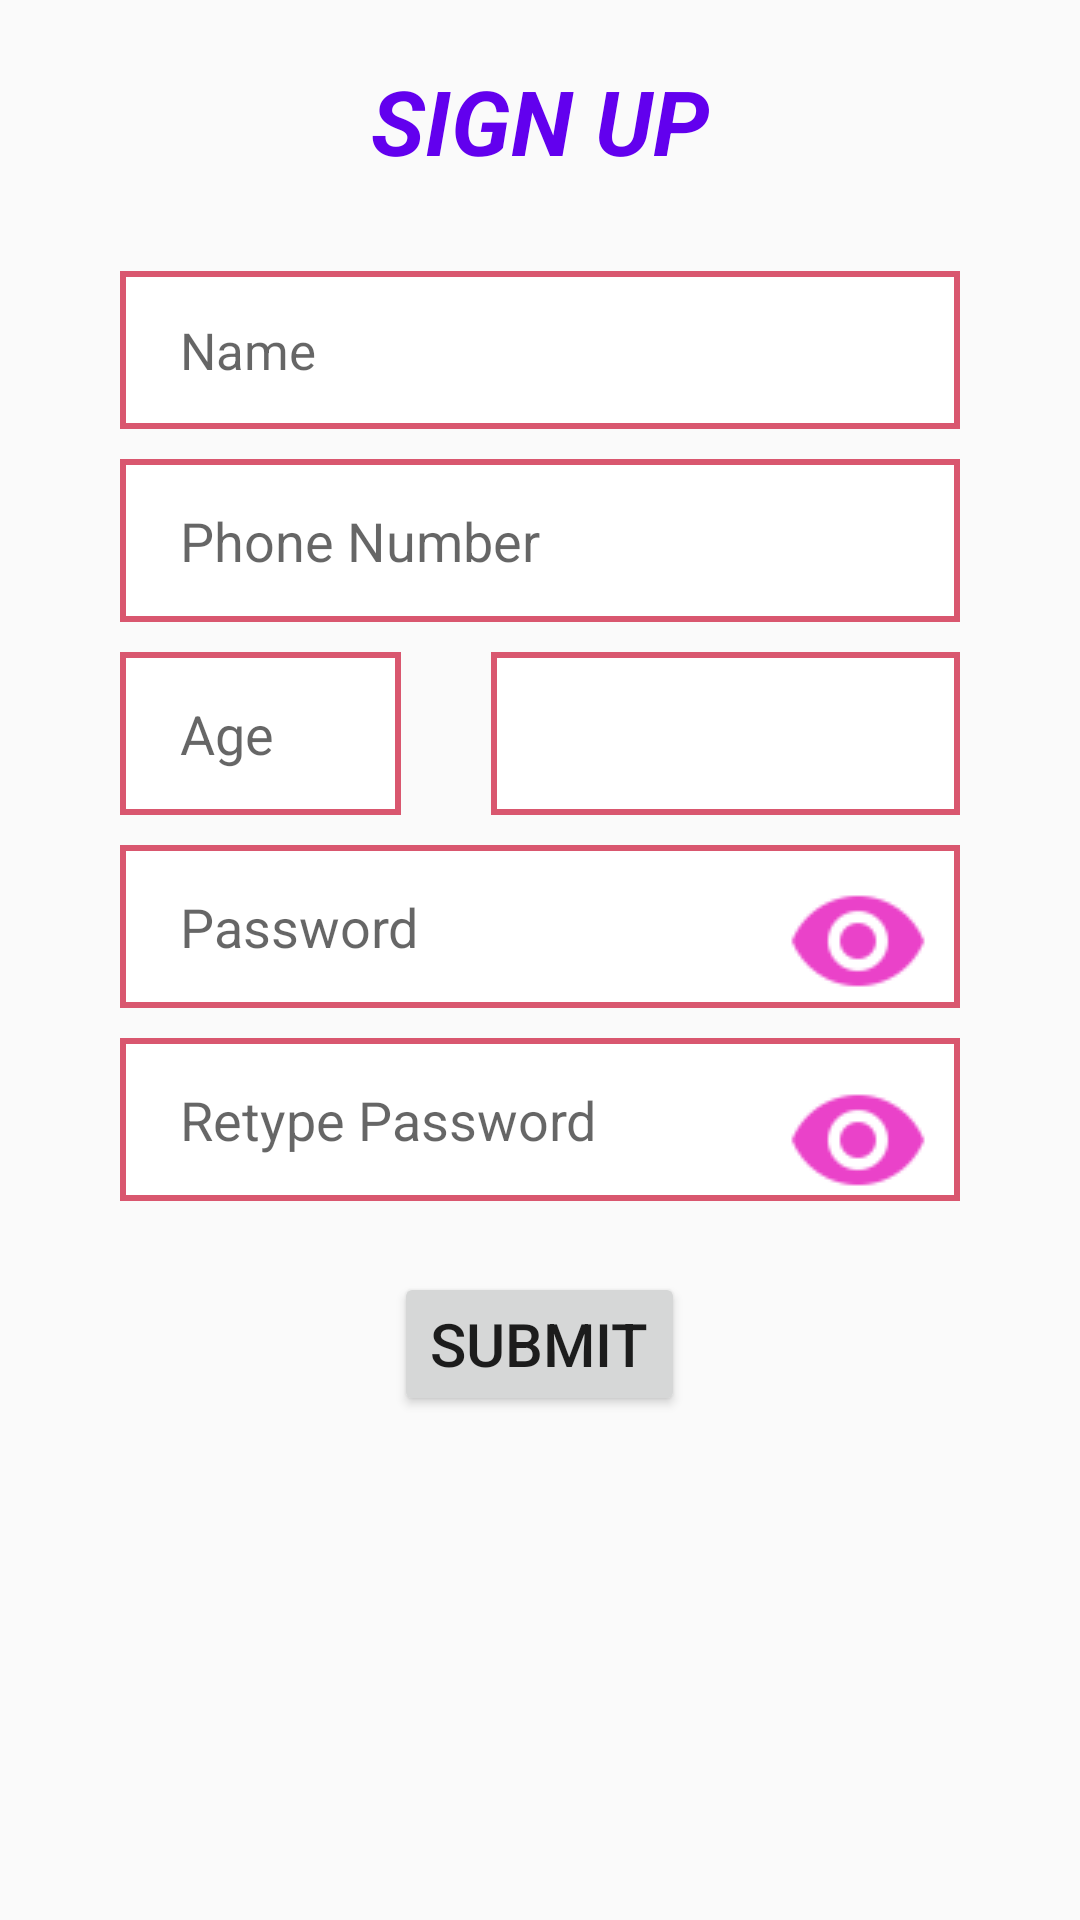

Screen size 1080 × 1920. Icon name, then its box in pixels as (x1, y1, x2, y2):
visible: (791, 895, 925, 987), (791, 1094, 925, 1186)
